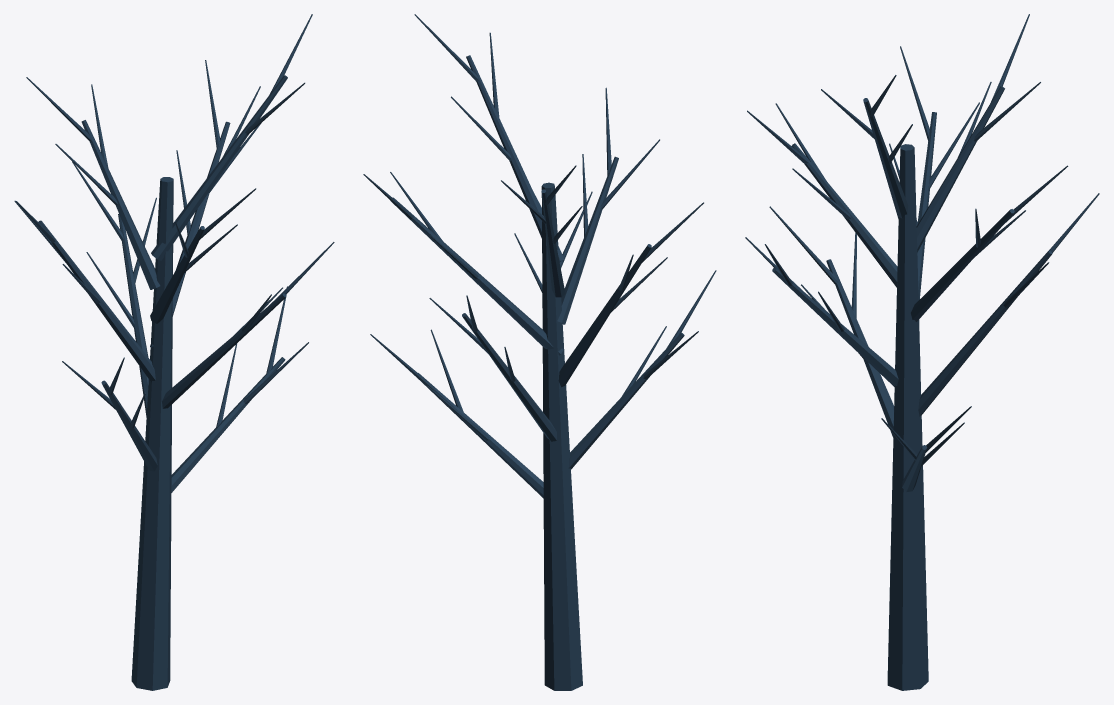
File: tree_51.glb
3 views of the same model, side by side, from view 1: azimuth 30°, elevation 25°; view 2: azimuth 150°, elevation 25°; view 3: azimuth 270°, elevation 25° (orthographic). The views are drawn at different scales.
Visible parts, largest first — view 1: tree_51; view 2: tree_51; view 3: tree_51.
Boxes of the visible parts, bbox=[...] form: tree_51: bbox=[14, 14, 334, 690]; tree_51: bbox=[363, 14, 716, 690]; tree_51: bbox=[745, 14, 1099, 690].
Bounding box in the file's own units: 2.3 × 4.58 × 2.13.
